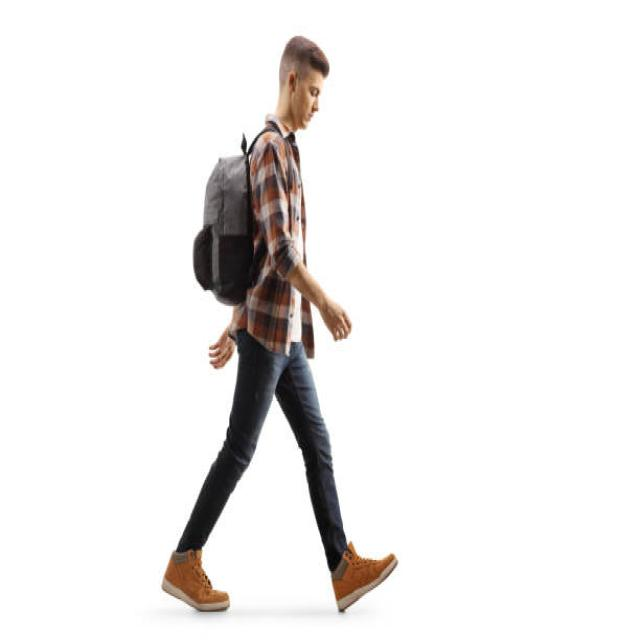Person: (162, 34, 398, 616)
